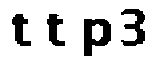3: (117, 8, 146, 50)
p: (78, 14, 113, 60)
t: (7, 13, 34, 50), (43, 12, 68, 49)
